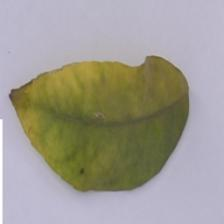greening: (31, 64, 182, 162)
